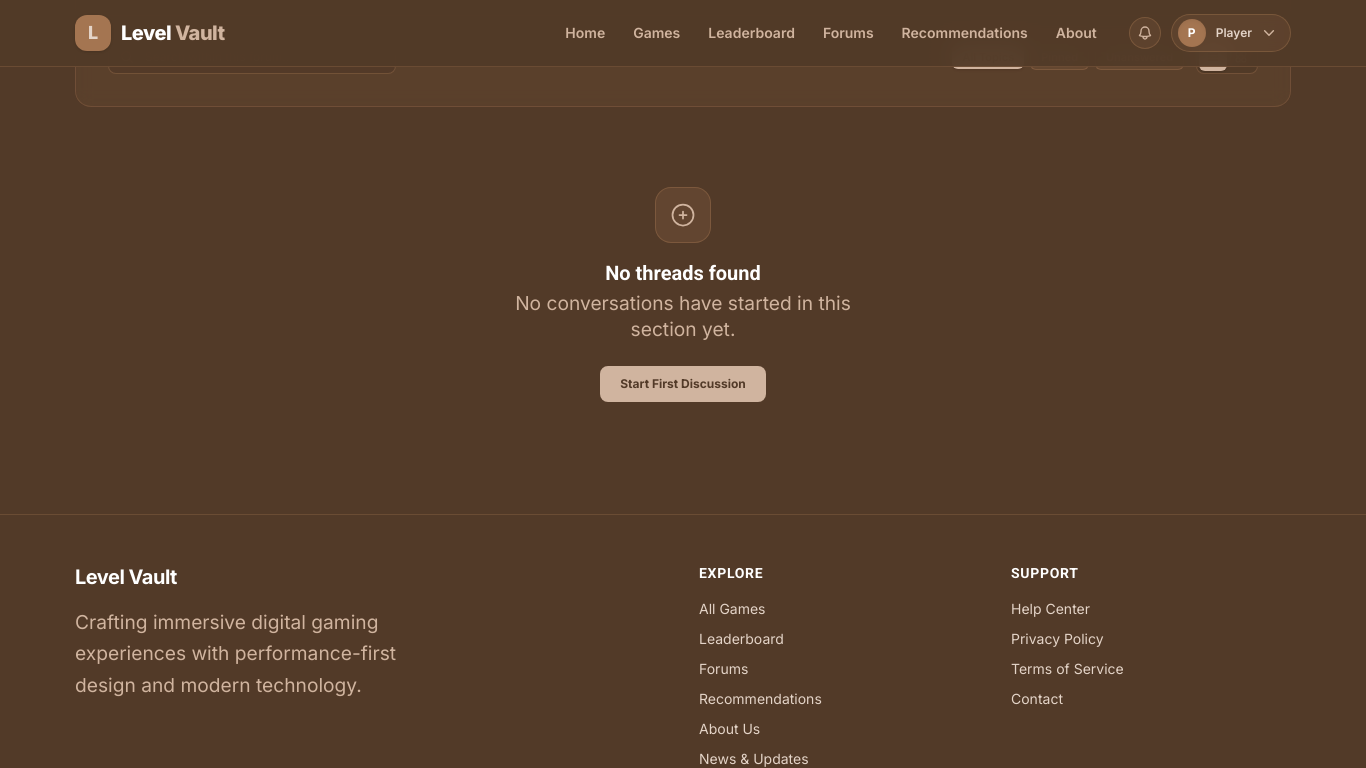
CategoryDetailPage › shows a 'No threads found' state and opens the create modal from it
This screenshot has width=1366, height=768.
(page scrolled)
Expected: the heading "No threads found" is shown, [605,259,761,287]
What coordinates should you click on to do the following:
click the button "Start First Discussion"
I would click on:
 (683, 384)
Its box is [600,366,766,402].
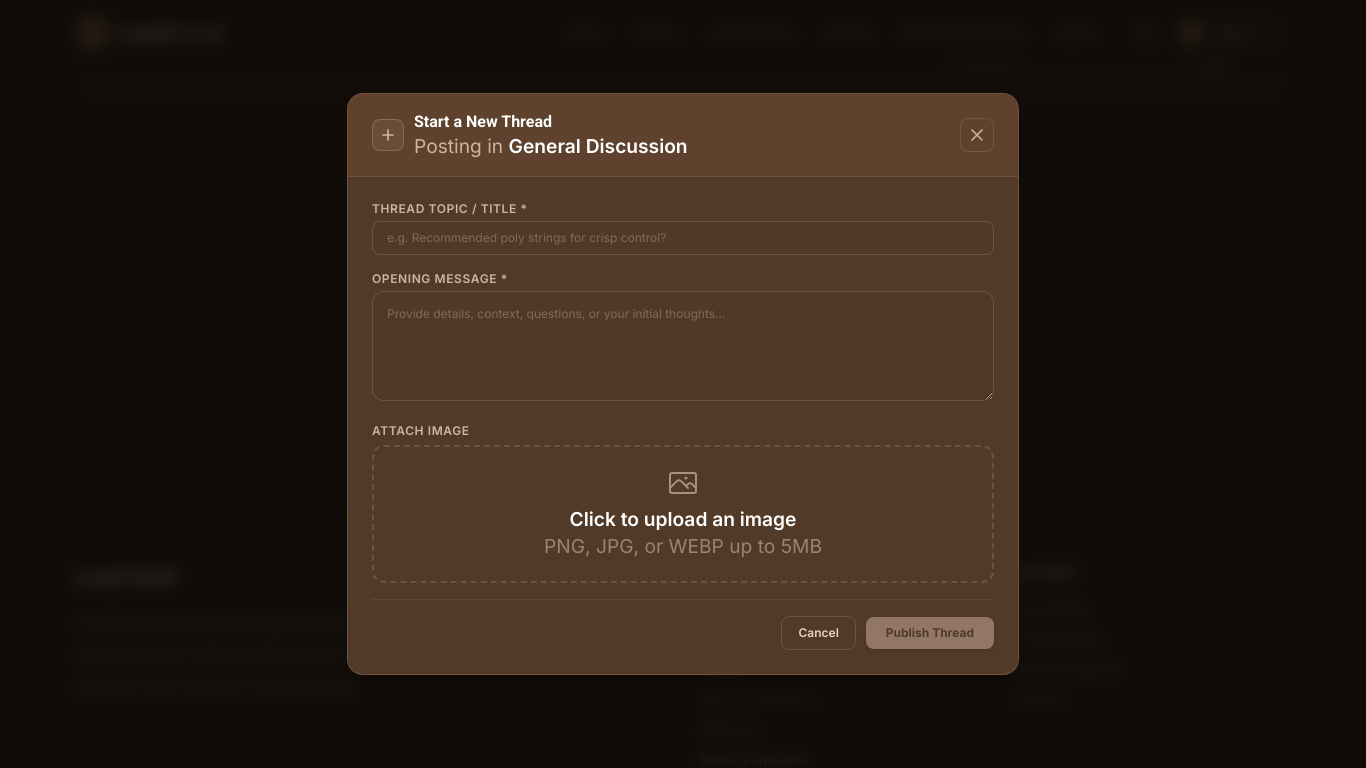
Expected: the heading "Start a New Thread" is shown, [414,112,552,131]
